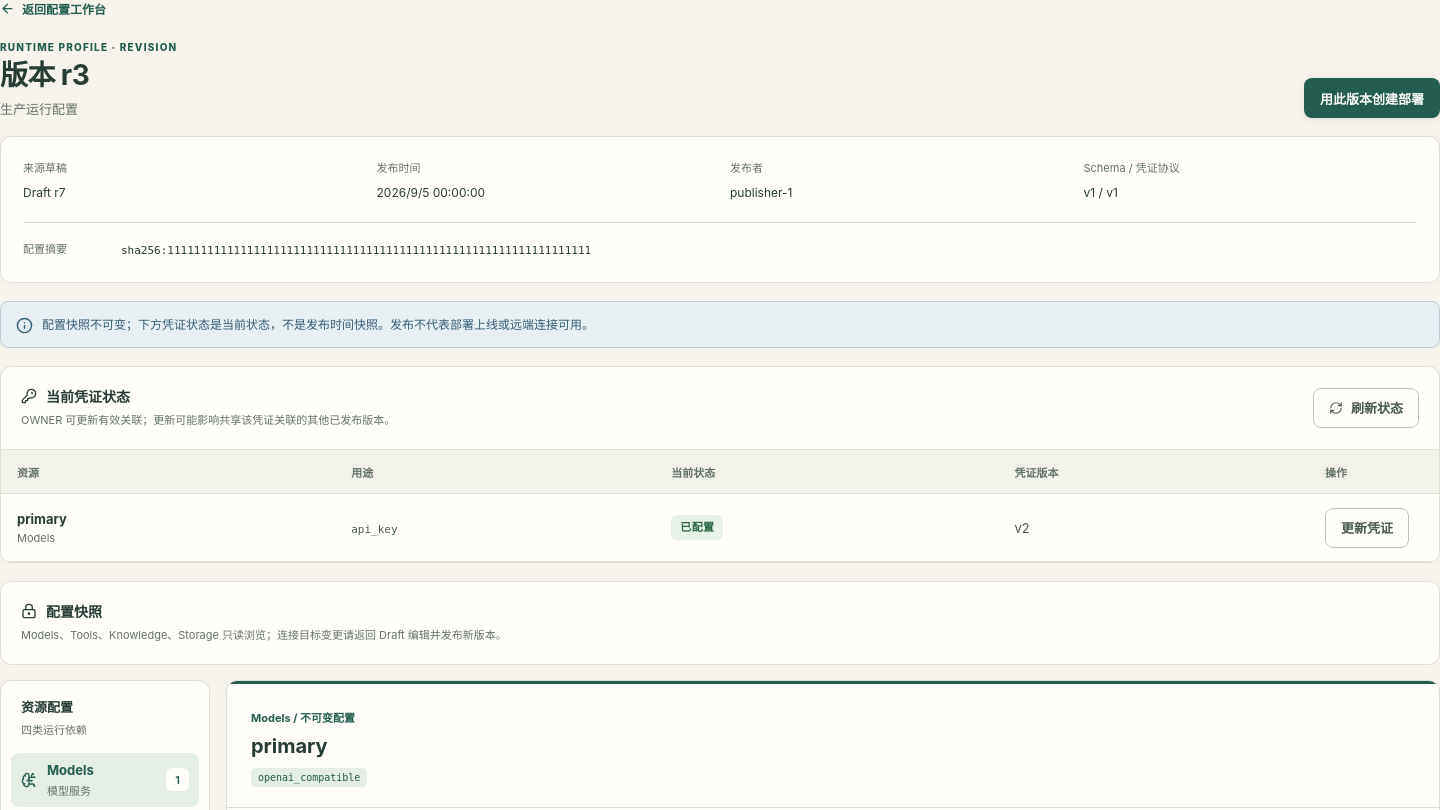
Test: ProfileRevisionDetail › keeps a successful mutation successful if the following GET fails and disables updates until refreshed
This screenshot has width=1440, height=810.
Click the button with aria-label "更新 Models / primary / api_key" at (1367, 528), box [1325, 508, 1409, 548]
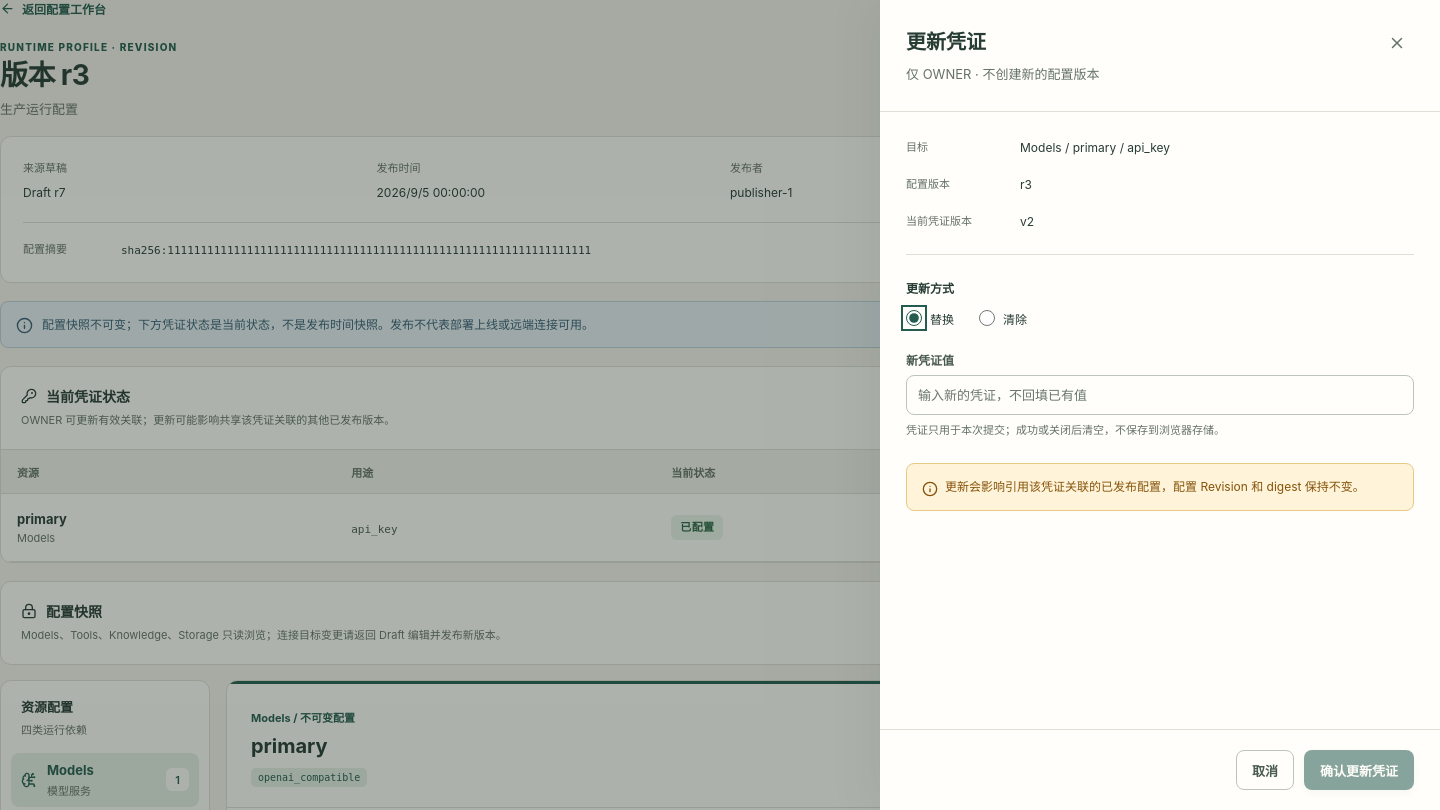
Type "test-value" into the password field labelled "新凭证值" at (1160, 395), box [906, 375, 1414, 415]
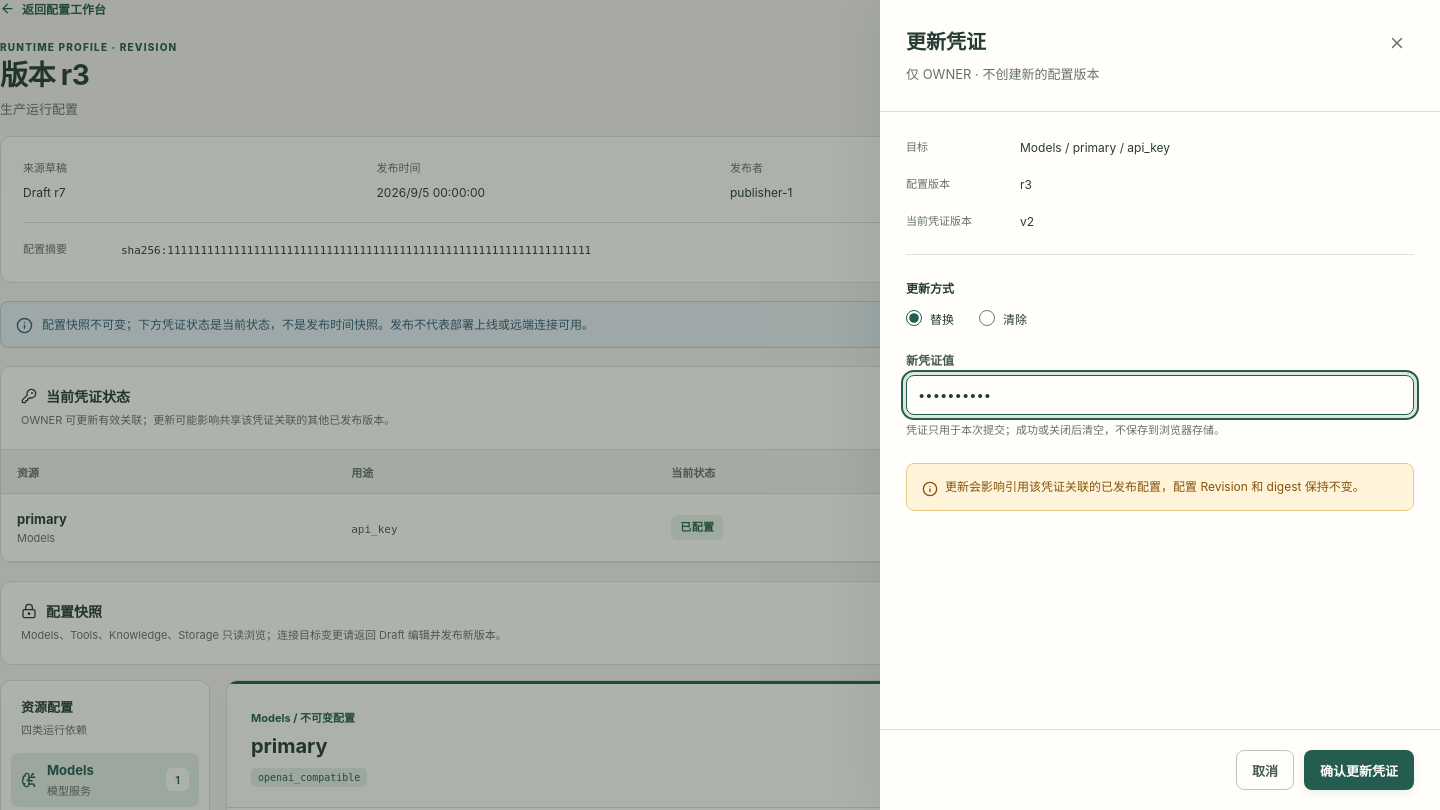
Click the button "确认更新凭证" at (1359, 770), box [1304, 750, 1414, 790]
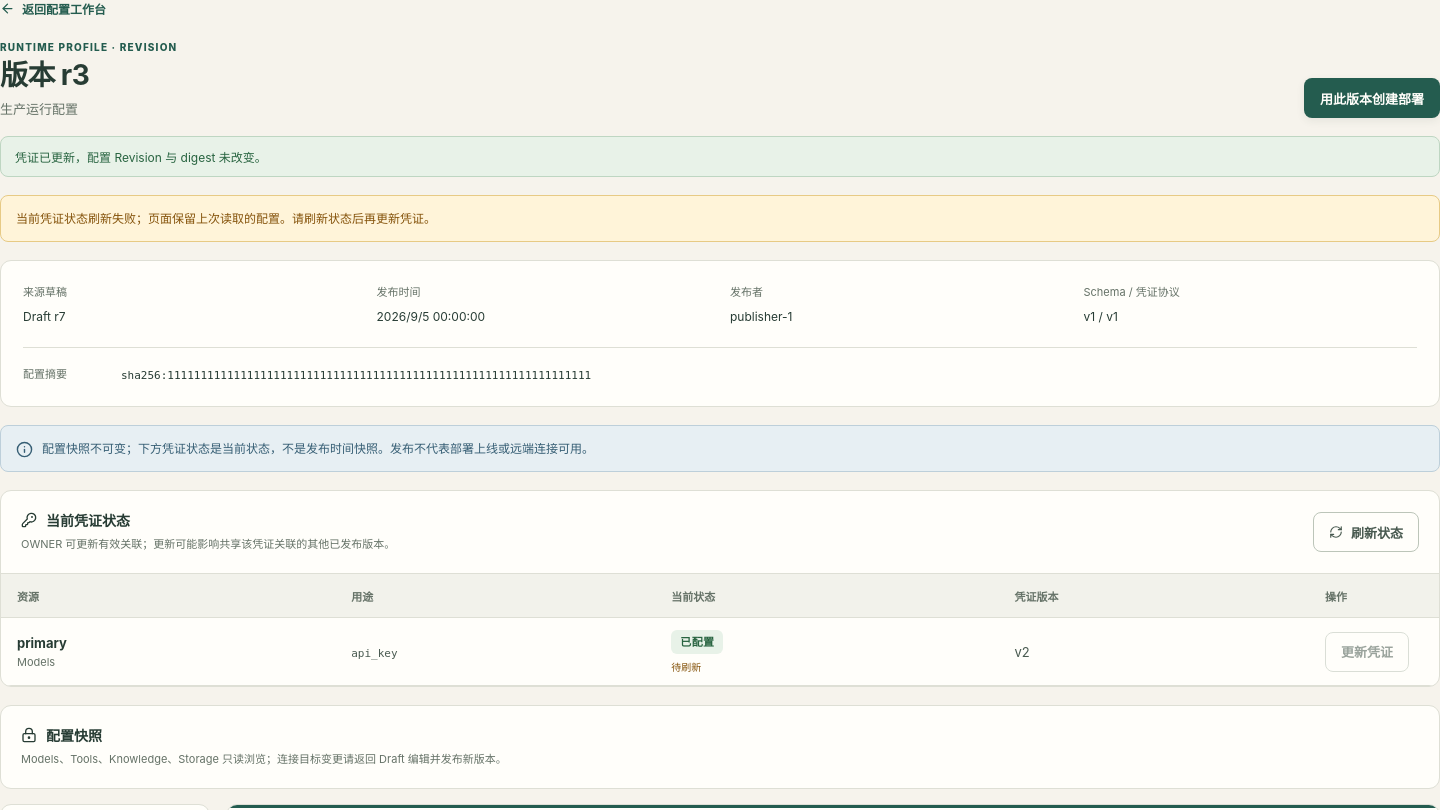
Expected: the text "当前凭证状态刷新失败；页面保留上次读取的配置。请刷新状态后再更新凭证。" is shown, [0, 195, 1439, 242]
Expected: the text "凭证已更新，配置 Revision 与 digest 未改变。" is shown, [0, 136, 1439, 177]
Expected: the dialog is gone
Click the button "刷新状态" at (1366, 532), box [1313, 512, 1419, 552]
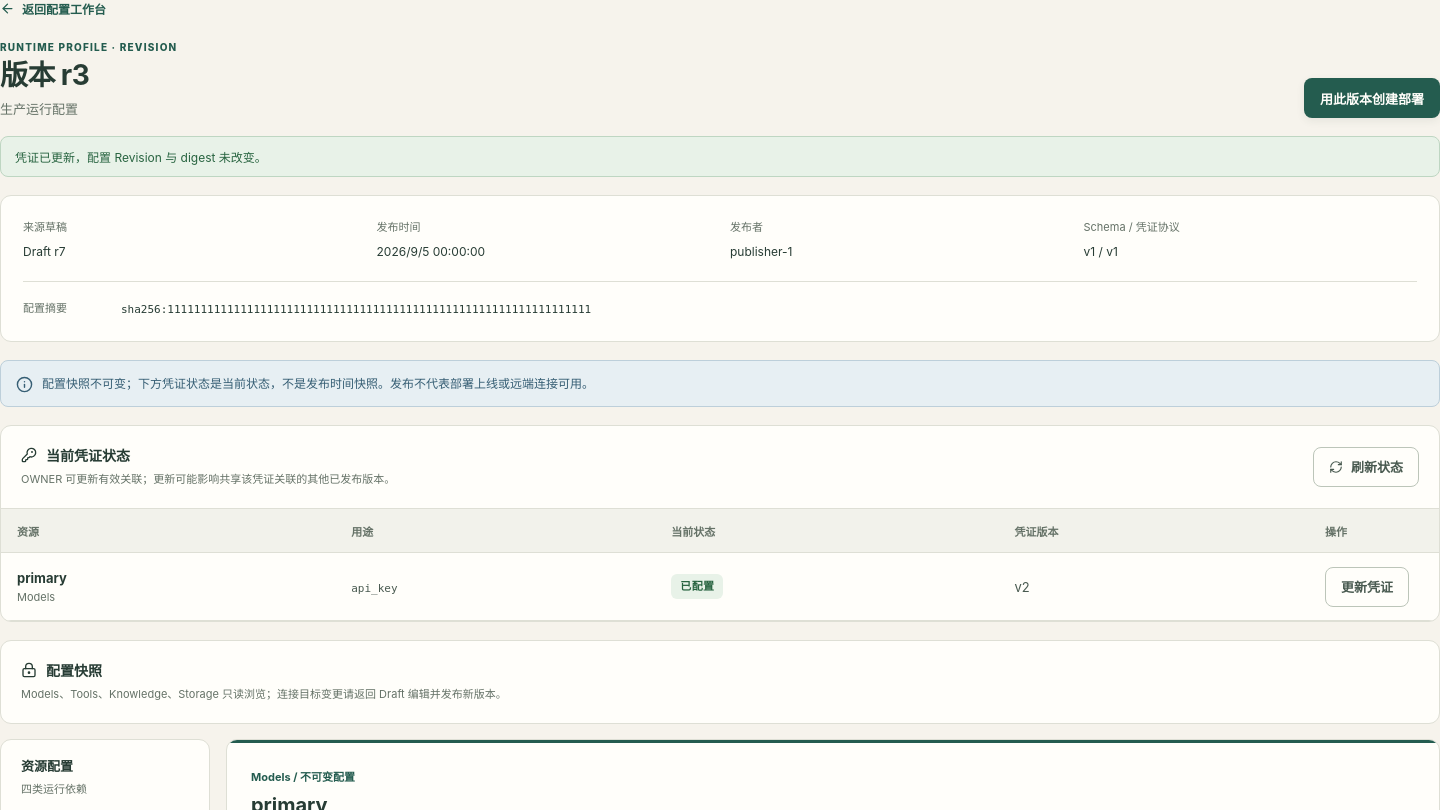
Expected: the button with aria-label "更新 Models / primary / api_key" is enabled, [1325, 567, 1409, 607]
